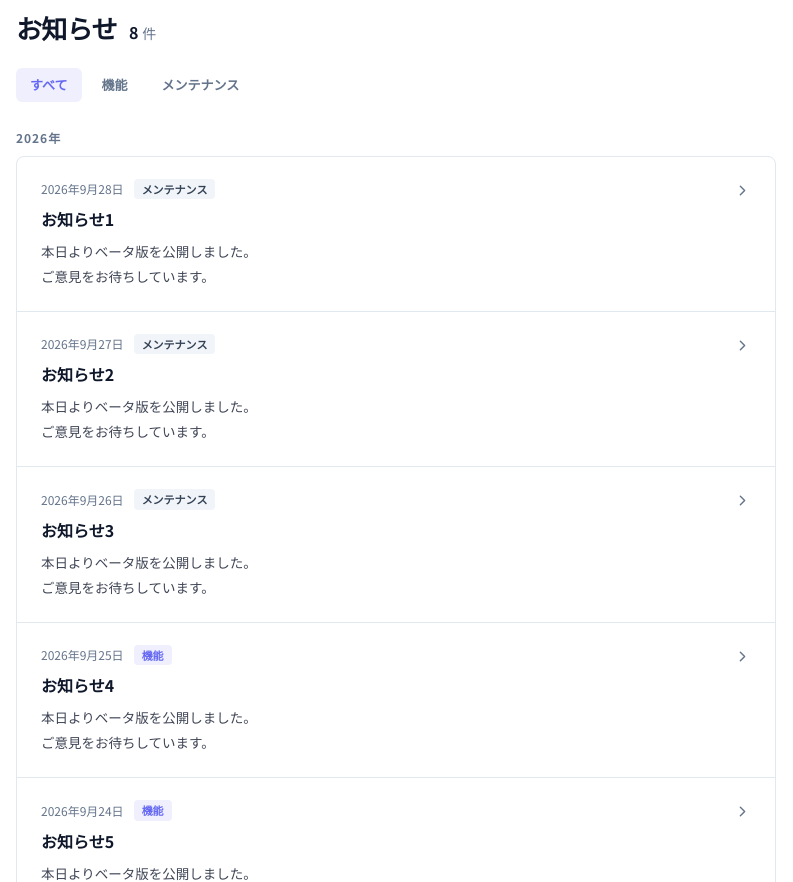
絞り込みとページ送り › カテゴリで絞り込むと、項目と件数が絞られる
Click the button "メンテナンス": (200, 85) [148,68,253,102]
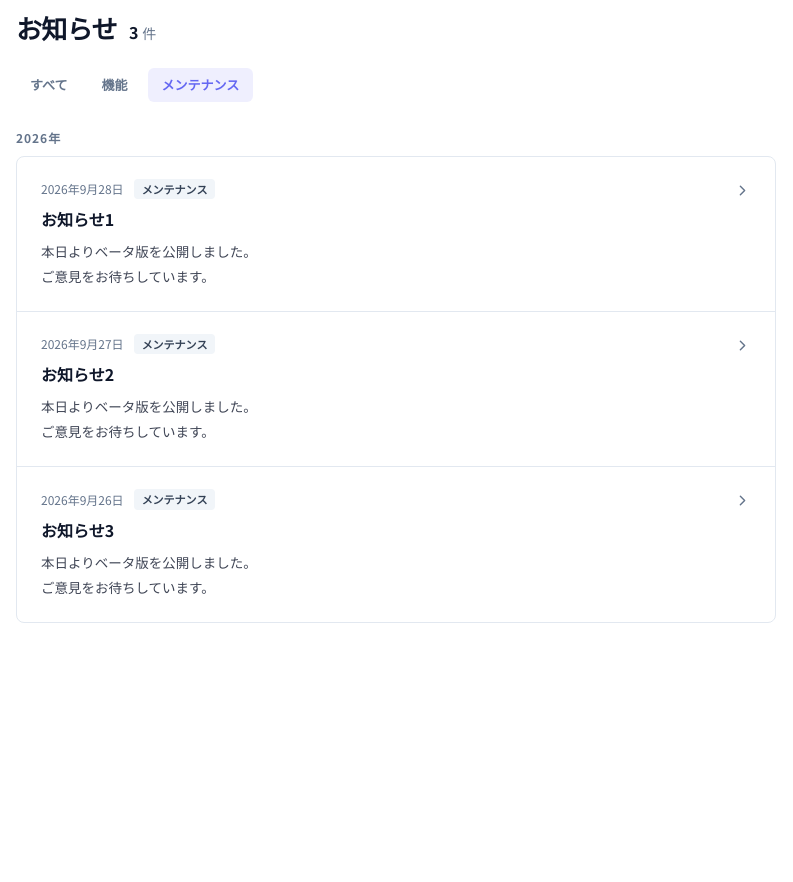
Check: the number of list items is 3, box [17,156,775,311]; [17,311,775,466]; [17,466,775,622]
